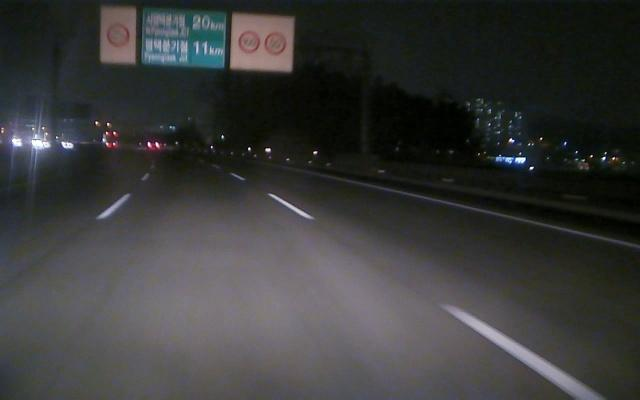lane: (232, 173, 614, 400), (349, 181, 638, 251), (96, 173, 150, 219)
